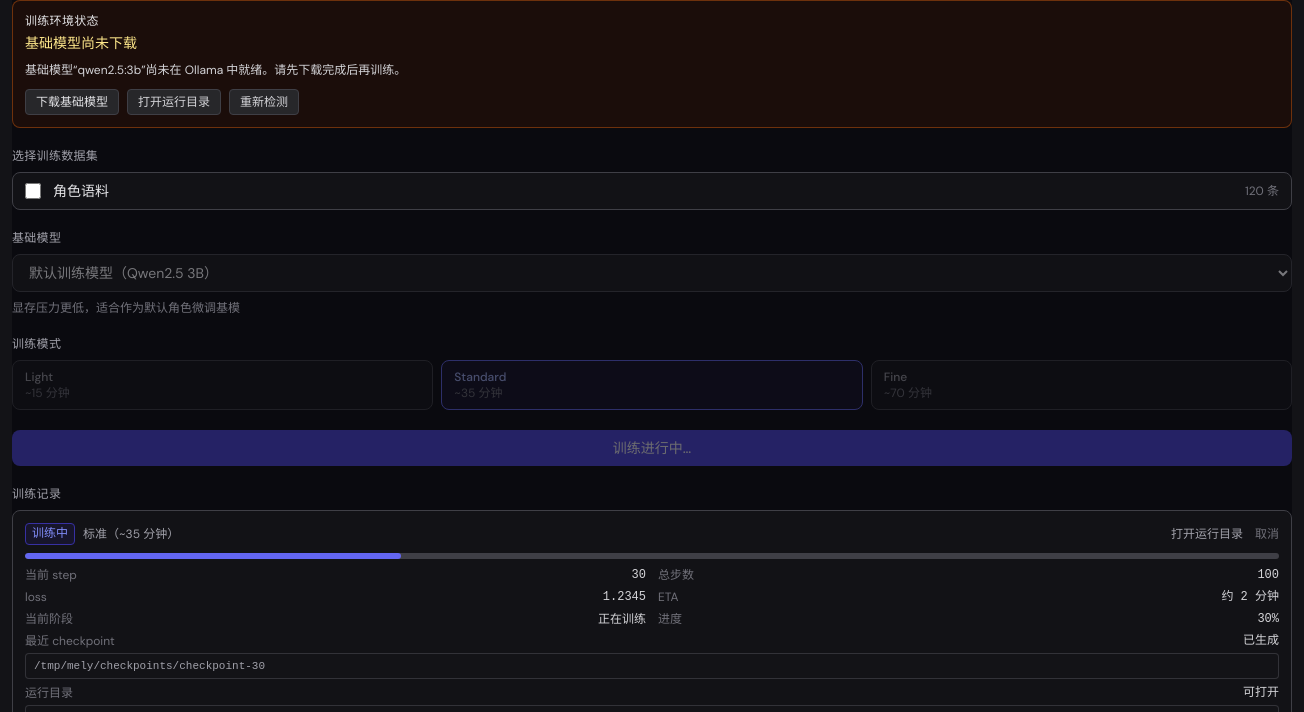
Test: shows pulling state when downloading base model
Expected: the text "基础模型尚未下载" is shown, [25,33,137,53]
Click the button "下载基础模型": (72, 102) [25,88,119,114]
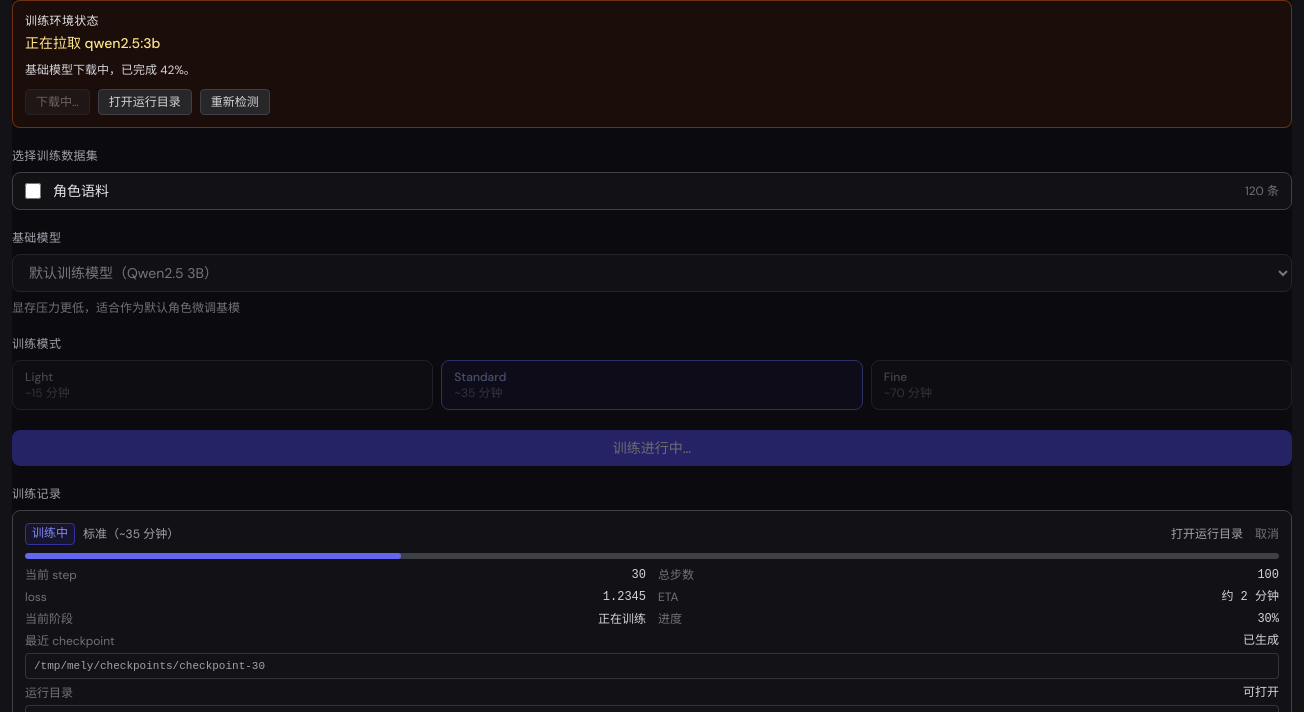
Expected: the text "正在拉取 qwen2.5:3b" is shown, [25,33,160,53]
